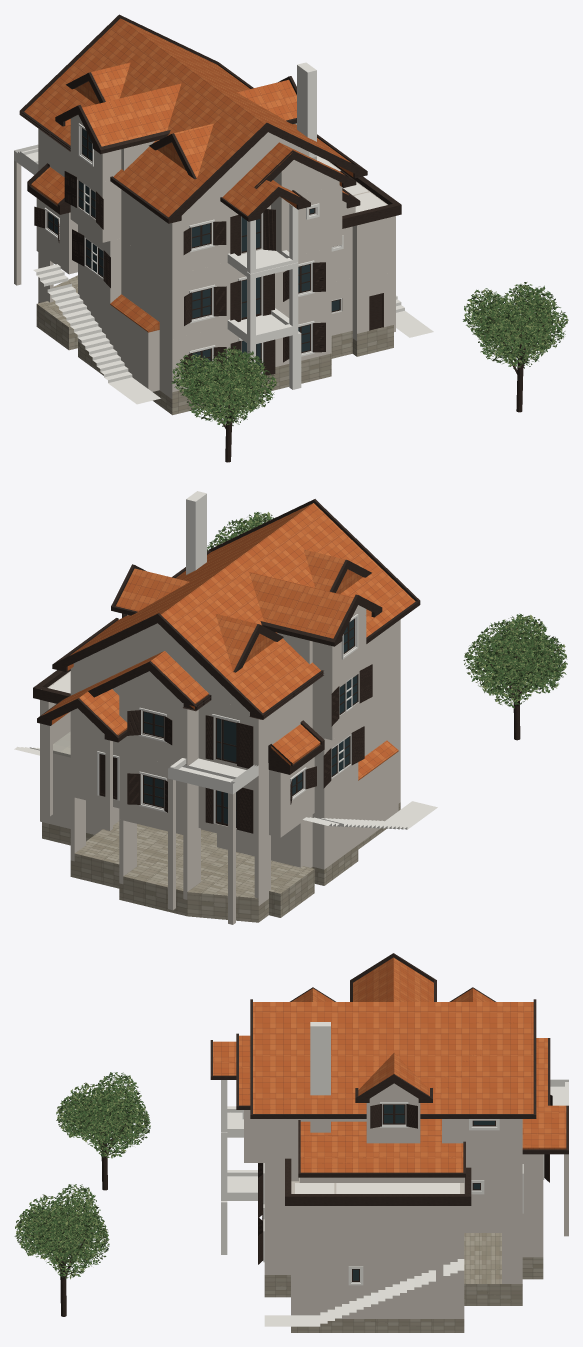
File: context-detail-b30.glb
3 views of the same model, one above another, from view 1: azimuth 30°, elevation 25°; view 2: azimuth 150°, elevation 25°; view 3: azimuth 270°, elevation 25° (orthographic). The views are drawn at different scales.
Parts seen in each view (by area): view 1: B30 | ÇATII.003, B30 | KAT 1$DUVAR, B30 | KAT 2$DUVAR, B30 | KAT 0$DUVAR, B30 | ek dalgalar, B30 | ÇATI ALIN.002, Individual folded leaves.014, Individual folded leaves.013, B30 foundation below BK, B30 | KAT 3$DUVAR, B30 | PENCERE_KAPI$SHUTTER.001, B30 | ek dalgalar.001 (+15 smaller); view 2: B30 | ÇATII.003, B30 | KAT 0$DUVAR, B30 | KAT 1$DUVAR, B30 foundation below BK, B30 | KAT 2$DUVAR, B30 | ÇATI ALIN.002, B30 | KAT 3$DUVAR, Individual folded leaves.013, B30 | ÇATI ALIN.001, B30 | PENCERE_KAPI$SHUTTER.001, B30 | ÇATII.002, B30 | PENCERE_KAPI$SHUTTER.002 (+12 smaller); view 3: B30 | ÇATII.003, B30 | KAT 1$DUVAR, B30 | KAT 0$DUVAR, B30 | ÇATII.002, B30 | KAT 2$DUVAR, B30 foundation below BK, Individual folded leaves.014, Individual folded leaves.013, B30 | ek dalgalar, B30 | ÇATI ALIN.001, B30 | ÇATI ALIN.002, B30 | ÇATI ALIN (+6 smaller).
Boxes of the visible parts, x1=… form: B30 | ÇATII.003: x1=24, y1=18, x2=350, y2=217; B30 | KAT 1$DUVAR: x1=36, y1=159, x2=395, y2=339; B30 | KAT 2$DUVAR: x1=38, y1=129, x2=355, y2=275; B30 | KAT 0$DUVAR: x1=14, y1=160, x2=395, y2=398; B30 | ek dalgalar: x1=33, y1=264, x2=433, y2=404; B30 | ÇATI ALIN.002: x1=20, y1=14, x2=367, y2=221; Individual folded leaves.014: x1=463, y1=282, x2=568, y2=369; Individual folded leaves.013: x1=171, y1=346, x2=277, y2=426; B30 foundation below BK: x1=36, y1=275, x2=393, y2=415; B30 | KAT 3$DUVAR: x1=70, y1=115, x2=339, y2=211; B30 | PENCERE_KAPI$SHUTTER.001: x1=34, y1=206, x2=325, y2=325; B30 | ek dalgalar.001: x1=14, y1=147, x2=298, y2=358; B30 | ÇATII.003: x1=70, y1=503, x2=415, y2=712; B30 | KAT 0$DUVAR: x1=40, y1=739, x2=400, y2=924; B30 | KAT 1$DUVAR: x1=40, y1=671, x2=400, y2=842; B30 foundation below BK: x1=42, y1=802, x2=400, y2=922; B30 | KAT 2$DUVAR: x1=70, y1=619, x2=400, y2=774; B30 | ÇATI ALIN.002: x1=52, y1=499, x2=419, y2=719; B30 | KAT 3$DUVAR: x1=73, y1=605, x2=366, y2=707; Individual folded leaves.013: x1=463, y1=613, x2=567, y2=708; B30 | ÇATI ALIN.001: x1=37, y1=550, x2=420, y2=768; B30 | PENCERE_KAPI$SHUTTER.001: x1=127, y1=726, x2=364, y2=833; B30 | ÇATII.002: x1=42, y1=663, x2=320, y2=763; B30 | PENCERE_KAPI$SHUTTER.002: x1=122, y1=613, x2=372, y2=768; B30 | ÇATII.003: x1=213, y1=957, x2=547, y2=1113; B30 | KAT 1$DUVAR: x1=264, y1=1154, x2=568, y2=1260; B30 | KAT 0$DUVAR: x1=264, y1=1206, x2=568, y2=1318; B30 | ÇATII.002: x1=300, y1=1105, x2=566, y2=1172; B30 | KAT 2$DUVAR: x1=244, y1=1110, x2=522, y2=1182; B30 foundation below BK: x1=264, y1=1233, x2=543, y2=1332; Individual folded leaves.014: x1=14, y1=1184, x2=109, y2=1279; Individual folded leaves.013: x1=56, y1=1072, x2=150, y2=1158; B30 | ek dalgalar: x1=221, y1=1170, x2=464, y2=1326; B30 | ÇATI ALIN.001: x1=210, y1=1076, x2=568, y2=1177; B30 | ÇATI ALIN.002: x1=210, y1=953, x2=550, y2=1114; B30 | ÇATI ALIN: x1=285, y1=1158, x2=471, y2=1205.
Bounding box in the file's own units: 18.95 × 14.71 × 26.89.
12 materials, 12 textured.
